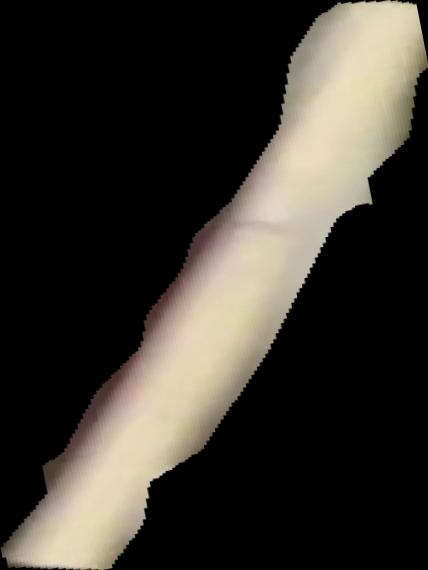backward: (1, 1, 428, 570)
